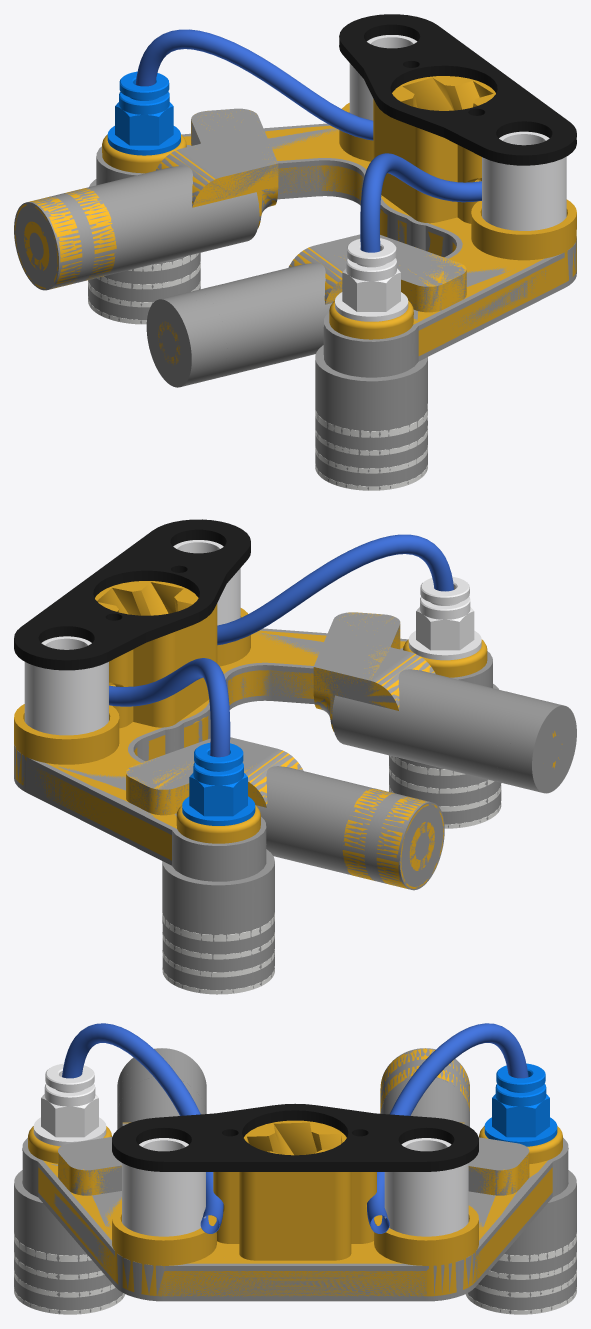
File: Tool3.fbx
3 renders of one model, top to bottom at view 1: azimuth 30°, elevation 25°; view 2: azimuth 150°, elevation 25°; view 3: azimuth 270°, elevation 25°, orthographic.
Visible parts, largest first — view 1: Body1 (×18), Body2; view 2: Body1 (×18), Body2; view 3: Body1 (×18), Body2.
Boxes of the visible parts, x1,y1,x2,y2 form: Body1 (×18): [14, 14, 576, 490]; Body2: [14, 188, 117, 290]; Body1 (×18): [14, 519, 576, 994]; Body2: [341, 788, 444, 890]; Body1 (×18): [14, 1023, 576, 1314]; Body2: [380, 1048, 469, 1113].
Size of the model in its own units: 82.22 by 54.7 by 101.
